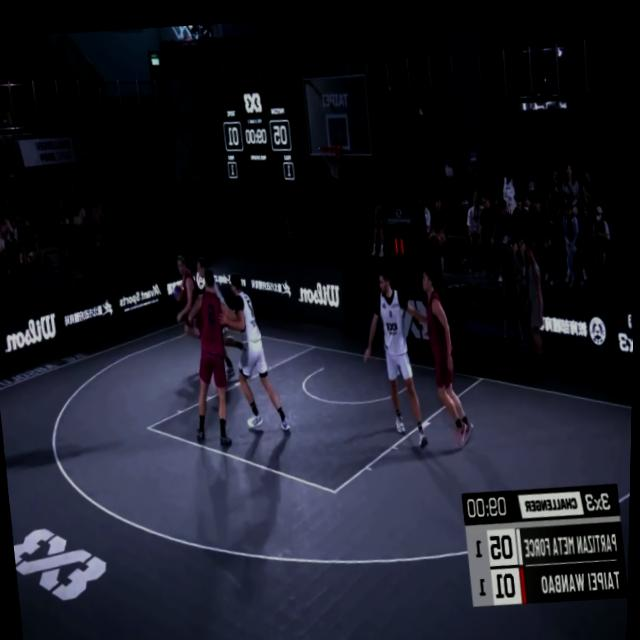ball: (173, 279, 188, 304)
hoop: (318, 136, 347, 179)
player: (352, 253, 442, 452), (217, 263, 296, 438), (178, 261, 249, 449), (416, 255, 481, 447), (167, 244, 219, 372), (193, 250, 247, 373)
